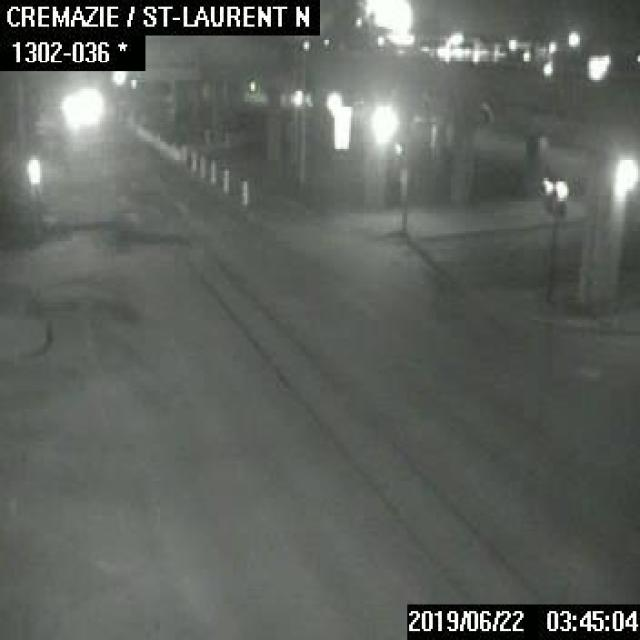construction: (238, 169, 249, 204), (207, 157, 216, 182), (220, 169, 229, 193), (197, 153, 205, 178), (178, 142, 186, 166), (188, 149, 196, 173)
